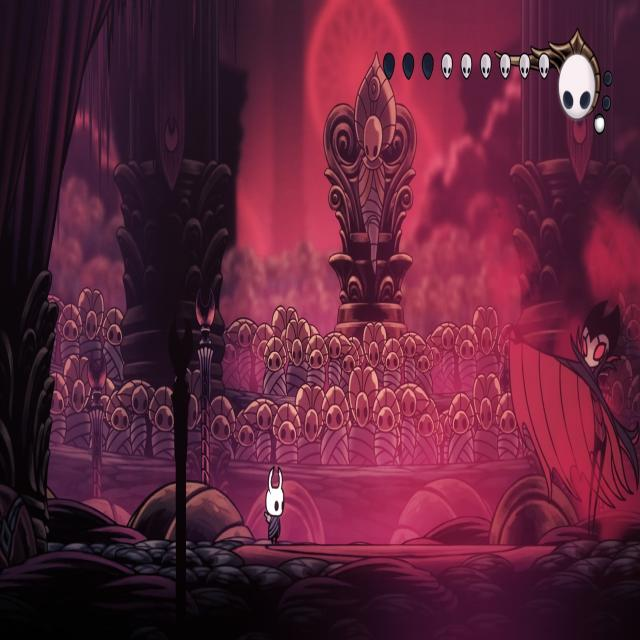Open Cloak: (504, 288, 640, 547)
Player: (263, 463, 286, 547)
